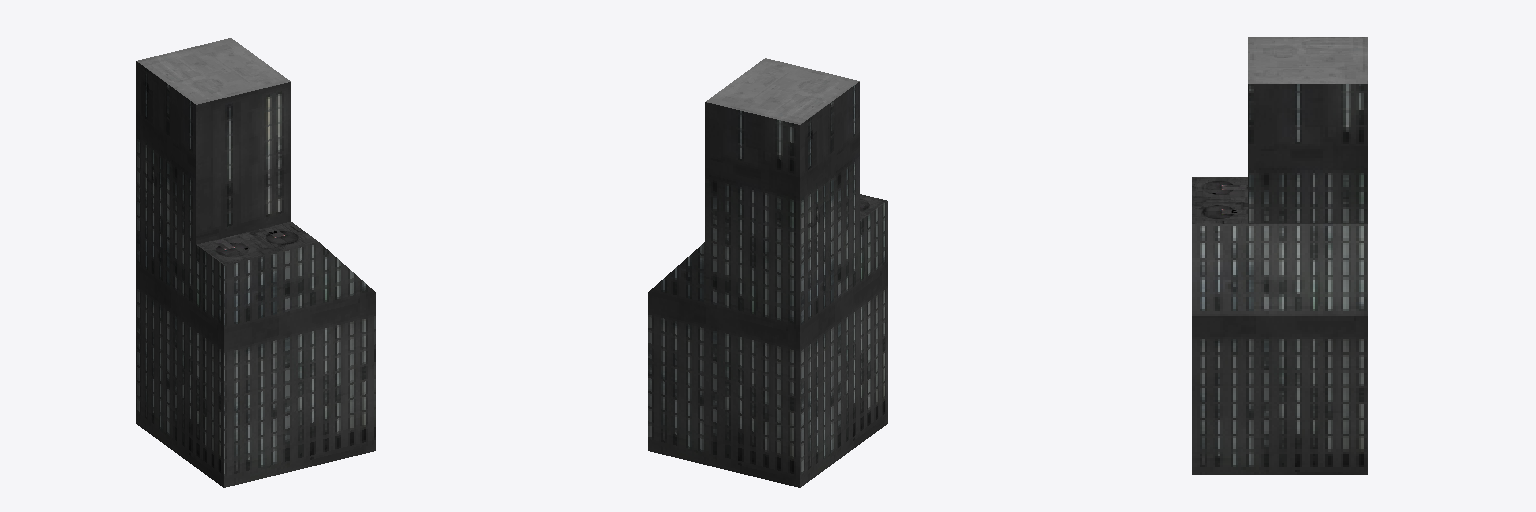
3 views of the same model, side by side, from view 1: azimuth 30°, elevation 25°; view 2: azimuth 150°, elevation 25°; view 3: azimuth 270°, elevation 25° (orthographic).
Visible parts, largest first — view 1: building_1; view 2: building_1; view 3: building_1.
Part boxes in pixels (left/top/right/bottom): building_1: left=136, top=38, right=375, bottom=487; building_1: left=648, top=58, right=887, bottom=487; building_1: left=1192, top=37, right=1367, bottom=474.
Bounding box in the file's own units: 35 × 79.98 × 35.
Materials: 1 (1 with a texture image).